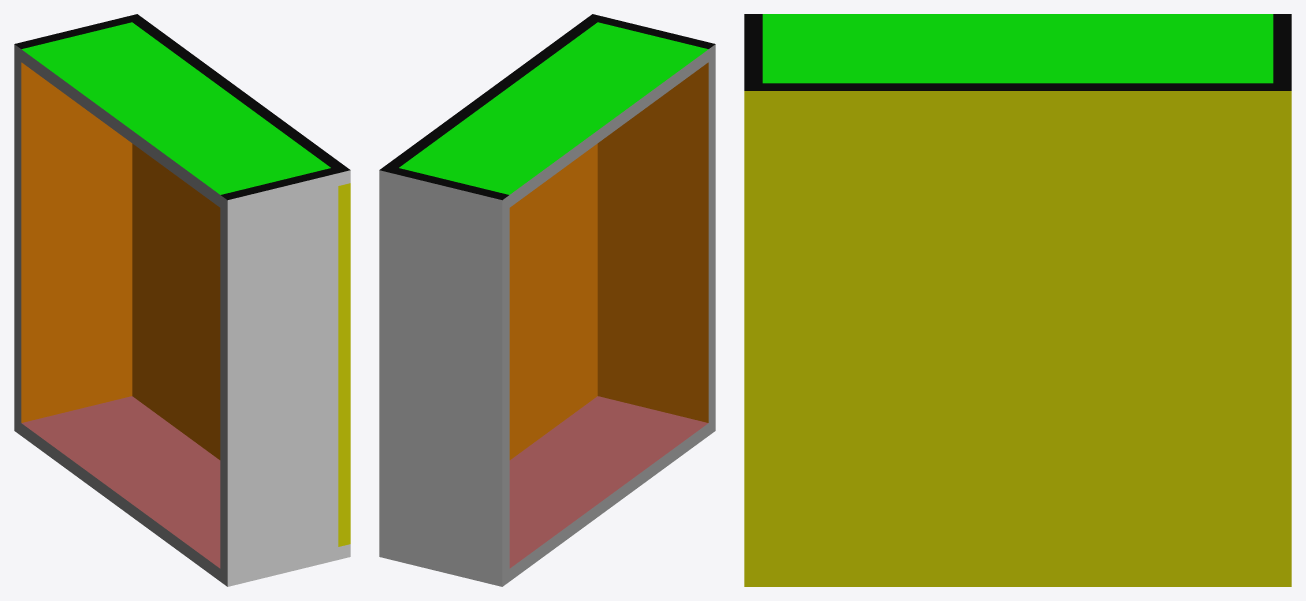
Rendered from UV_TRI_BuildingFrame_Small_Full_DTG.fbx.
The picture shows the model from 3 angles, left to right: view 1: azimuth 30°, elevation 25°; view 2: azimuth 150°, elevation 25°; view 3: azimuth 270°, elevation 25°; orthographic projection. The views are drawn at different scales.
Visible parts, largest first — view 1: SmallFacade_Full; view 2: SmallFacade_Full; view 3: SmallFacade_Full.
Boxes of the visible parts, x1=… form: SmallFacade_Full: x1=14, y1=14, x2=350, y2=586; SmallFacade_Full: x1=379, y1=14, x2=715, y2=586; SmallFacade_Full: x1=744, y1=14, x2=1291, y2=586.
Bounding box in the file's own units: 1 × 3 × 3.
